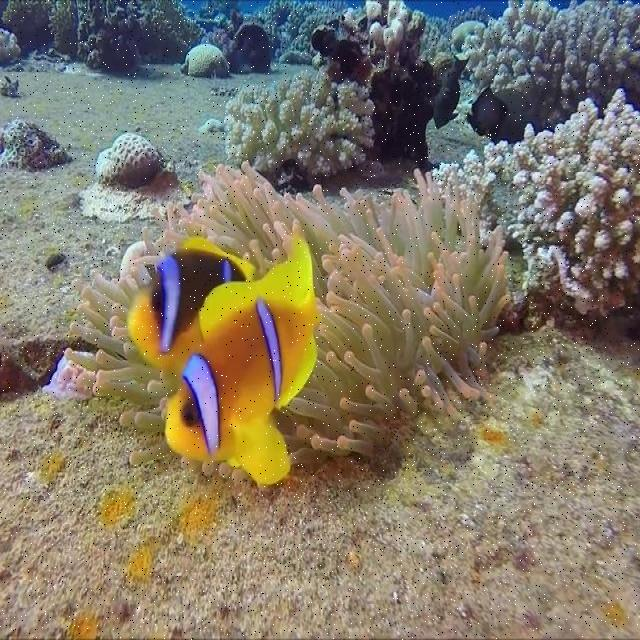fish: (163, 236, 322, 483), (125, 238, 258, 375)
reefs: (53, 170, 513, 462), (430, 88, 639, 318), (457, 5, 639, 120), (222, 79, 375, 191)
